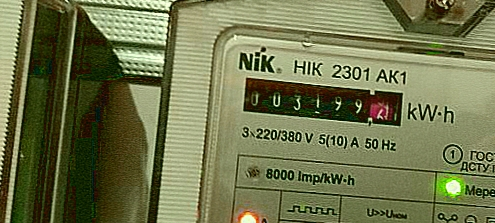0: (246, 87, 259, 106), (269, 88, 281, 107)
1: (311, 89, 321, 108)
3: (290, 92, 300, 111)
6: (373, 105, 384, 121)
9: (351, 96, 362, 114), (331, 93, 341, 111)
screen: (235, 71, 409, 133)
